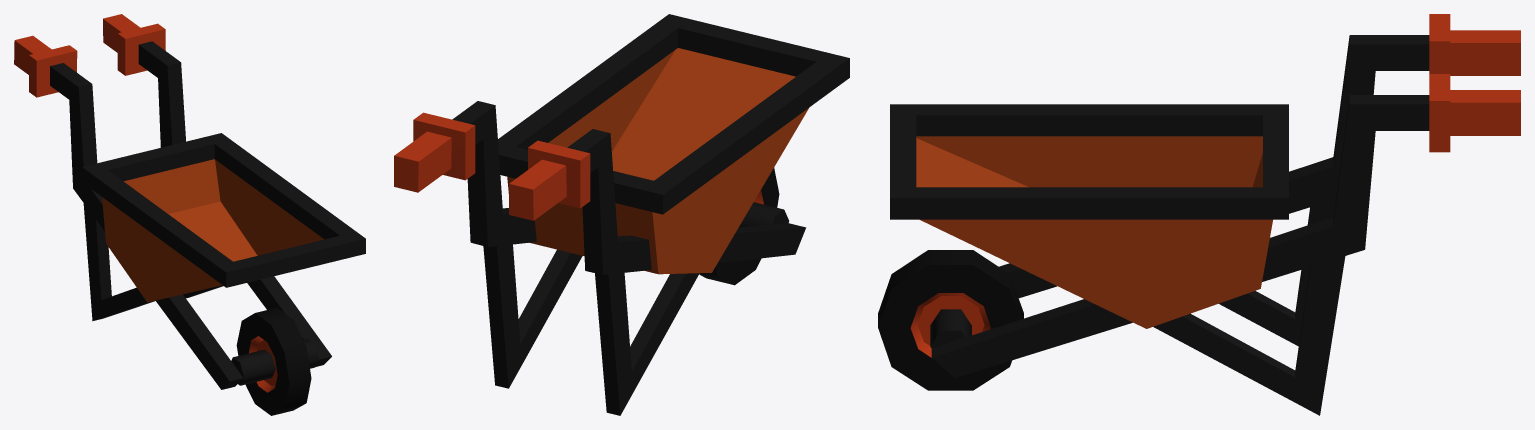
Rendered from Barrow.fbx.
The picture shows the model from 3 angles, left to right: view 1: azimuth 30°, elevation 25°; view 2: azimuth 150°, elevation 25°; view 3: azimuth 270°, elevation 25°; orthographic projection. The views are drawn at different scales.
Parts seen in each view (by area): view 1: Barrow; view 2: Barrow; view 3: Barrow.
Part boxes in pixels (x1=…): Barrow: x1=14, y1=14, x2=365, y2=415; Barrow: x1=394, y1=14, x2=849, y2=415; Barrow: x1=878, y1=14, x2=1520, y2=415.
Size of the model in its own units: 30.29 by 48.89 by 87.43.
